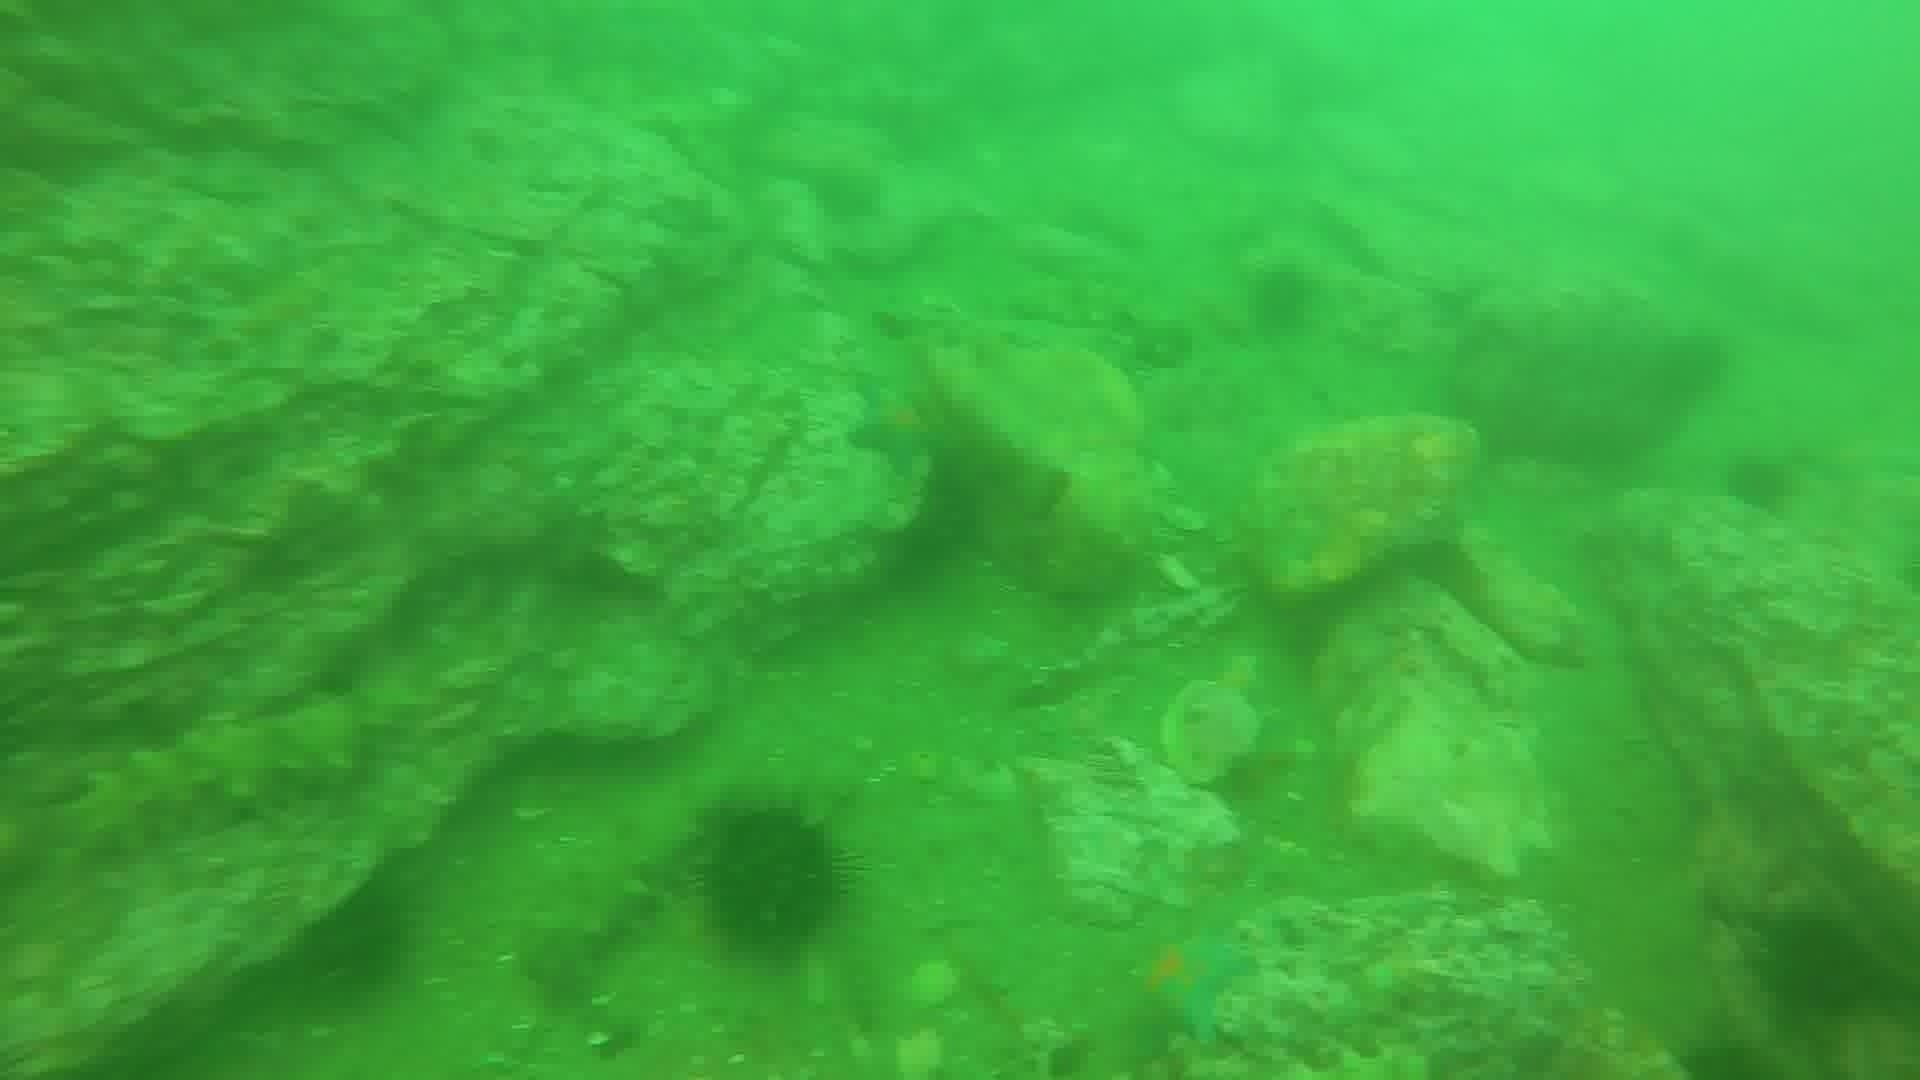echinus: (686, 793, 858, 963), (1753, 906, 1888, 1025), (287, 885, 414, 1011), (1644, 324, 1735, 407), (1244, 258, 1323, 340), (1720, 448, 1801, 520)
holothurian: (66, 699, 378, 862), (516, 799, 673, 1002)
starfish: (1118, 922, 1255, 1047), (845, 372, 945, 476)
